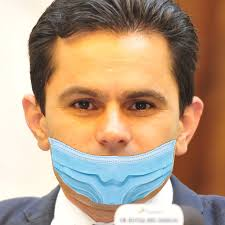mask_weared_incorrect: (44, 23, 183, 207)
